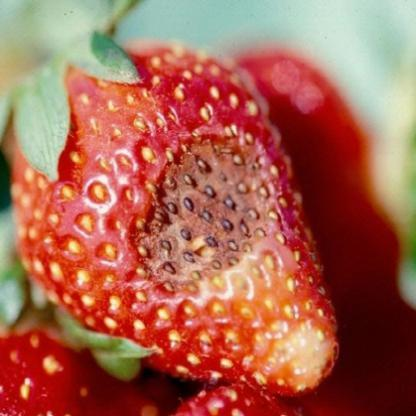Strawberry_Anthracnose_Fruit_Rot: (120, 126, 288, 299)
